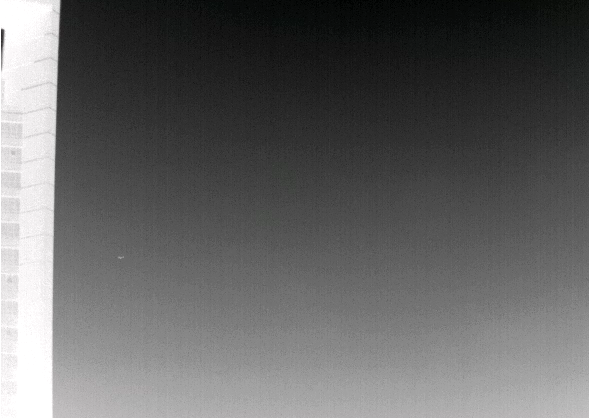dim target: (116, 256, 125, 260)
